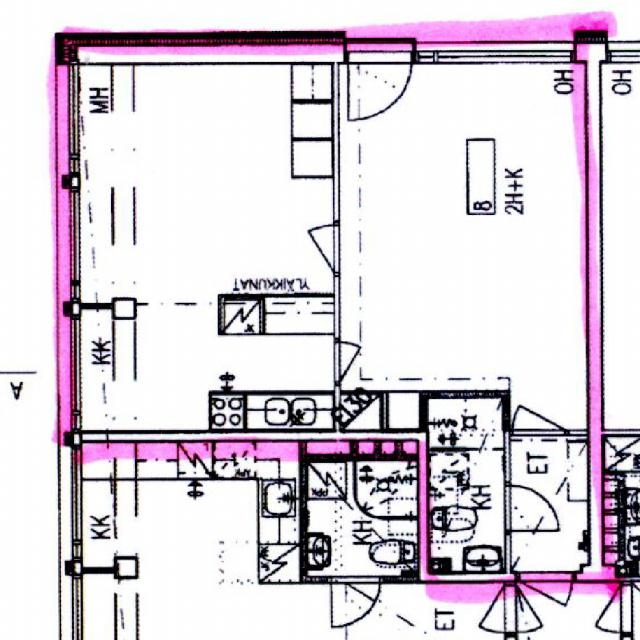door: (348, 52, 412, 122), (518, 572, 572, 632), (280, 225, 340, 274), (513, 381, 566, 436), (504, 485, 560, 531), (334, 342, 384, 384)
